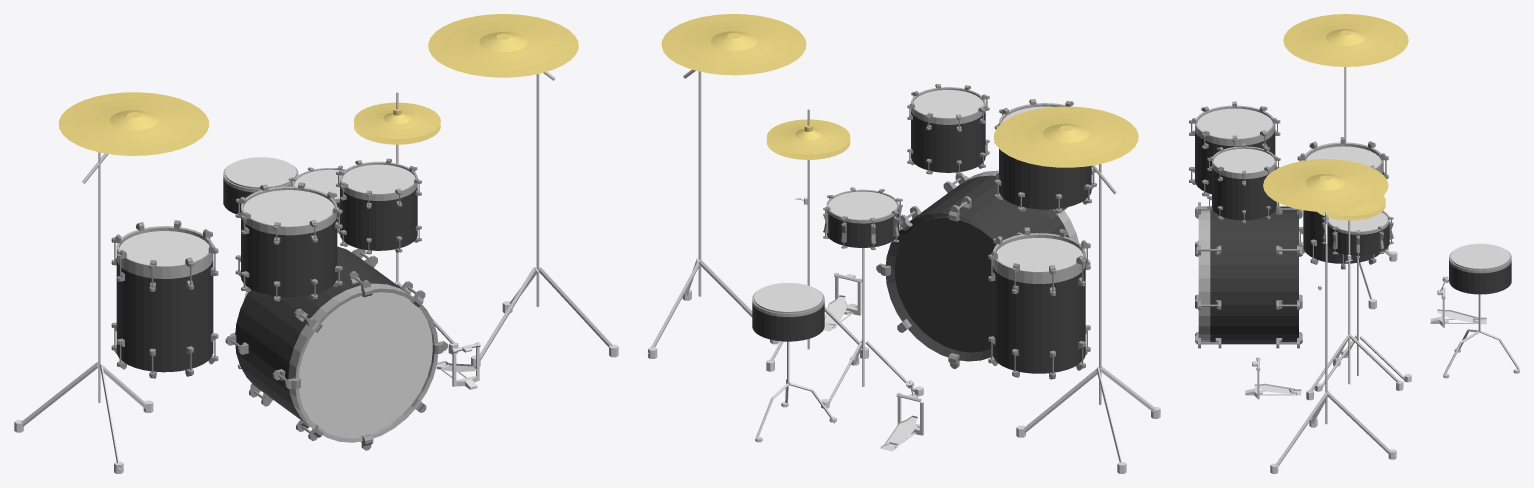
The model's file is littledrfummerboi.glb.
3 views of the same model, side by side, from view 1: azimuth 30°, elevation 25°; view 2: azimuth 150°, elevation 25°; view 3: azimuth 270°, elevation 25° (orthographic). The views are drawn at different scales.
Parts seen in each view (by area): view 1: Cylinder, Cylinder.004, Cylinder.001, Circle.005, Circle, Cylinder.008, Cylinder.003, Circle.002, Cylinder.052, Cylinder.005, Cylinder.002, Cylinder.006 (+3 smaller); view 2: Cylinder, Cylinder.004, Circle, Circle.005, Cylinder.008, Cylinder.001, Cylinder.052, Cylinder.006, Circle.002, Cylinder.005, Cylinder.003, Cylinder.037 (+5 smaller); view 3: Cylinder, Circle.005, Circle, Cylinder.008, Cylinder.001, Cylinder.052, Cylinder.004, Cylinder.006, Cylinder.003, Cylinder.002, Cylinder.005, Cylinder.037 (+6 smaller).
Part boxes in pixels (x1,y1,x2,y2): Cylinder: [235, 246, 438, 442]; Cylinder.004: [116, 226, 213, 372]; Cylinder.001: [241, 186, 337, 297]; Circle.005: [428, 14, 578, 77]; Circle: [58, 92, 209, 155]; Cylinder.008: [340, 161, 417, 250]; Cylinder.003: [225, 248, 447, 450]; Circle.002: [353, 102, 440, 139]; Cylinder.052: [223, 157, 298, 213]; Cylinder.005: [111, 220, 218, 378]; Cylinder.002: [235, 182, 342, 301]; Cylinder.006: [293, 168, 345, 221]; Cylinder: [885, 170, 1078, 361]; Cylinder.004: [992, 233, 1085, 373]; Circle: [993, 106, 1138, 167]; Circle.005: [661, 14, 806, 75]; Cylinder.008: [911, 87, 985, 172]; Cylinder.001: [999, 103, 1091, 209]; Cylinder.052: [752, 283, 824, 341]; Cylinder.006: [826, 189, 898, 247]; Circle.002: [766, 119, 850, 154]; Cylinder.005: [988, 227, 1090, 379]; Cylinder.003: [876, 172, 1090, 368]; Cylinder.037: [698, 71, 701, 296]; Cylinder: [1198, 206, 1298, 344]; Circle.005: [1263, 159, 1388, 211]; Circle: [1283, 14, 1408, 66]; Cylinder.008: [1212, 146, 1276, 220]; Cylinder.001: [1195, 105, 1275, 194]; Cylinder.052: [1449, 243, 1511, 294]; Cylinder.004: [1303, 142, 1383, 263]; Cylinder.006: [1327, 211, 1389, 255]; Cylinder.003: [1195, 202, 1302, 348]; Cylinder.002: [1189, 101, 1280, 196]; Cylinder.005: [1297, 137, 1388, 269]; Cylinder.037: [1325, 214, 1327, 424].
Size of the model in its own units: 2.06 by 1.17 by 1.34.
